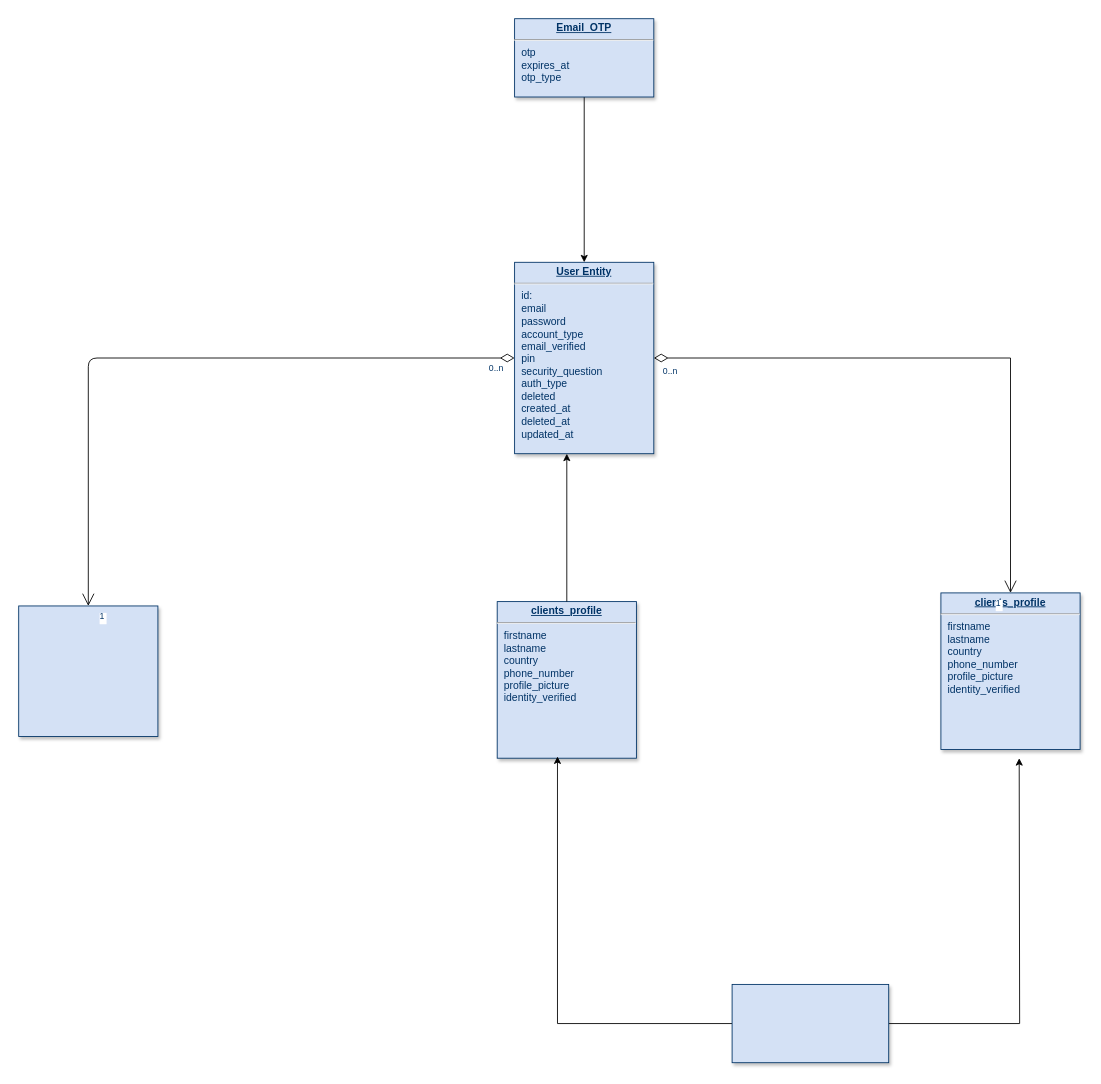
Some shapes in this 1101 by 1084 pixel diagram are drawn without their labels. Each missing label, with the centre of its shape:
clients_profile firstname lastname country phone_number profile_picture: point 88,672
KYC is_verified verification_type otp_type: point 811,1024
